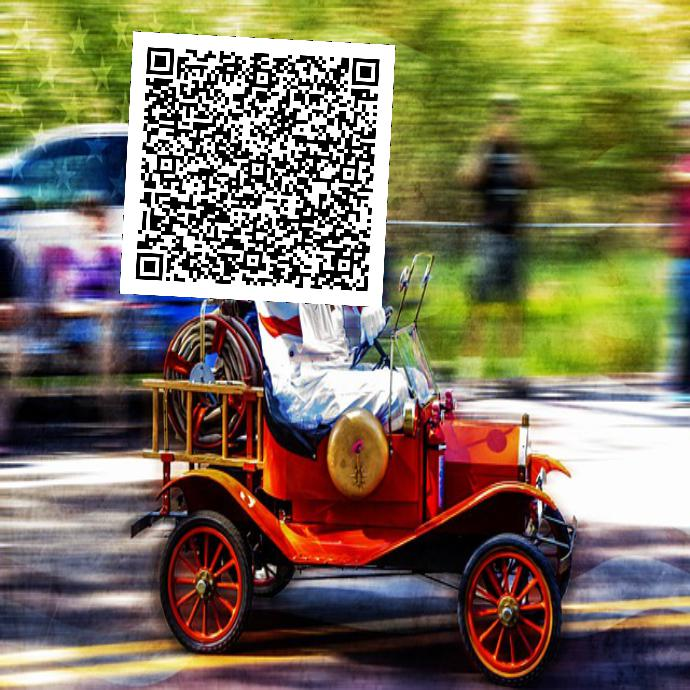qr_code: (119, 30, 395, 306)
